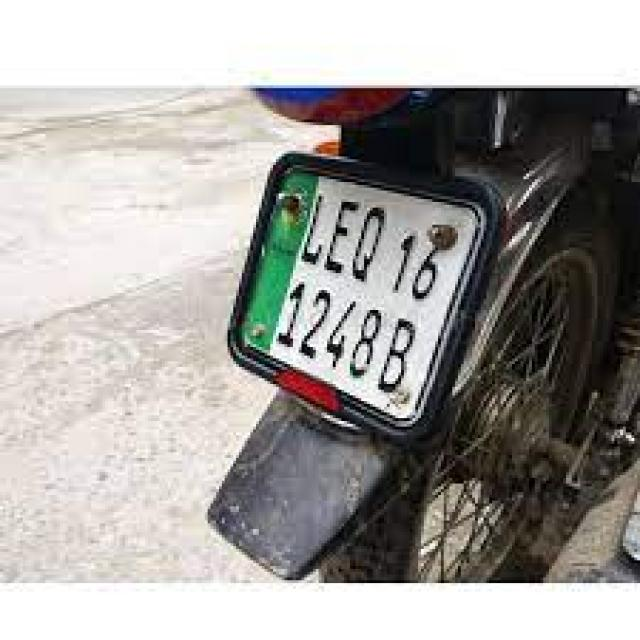license_plate: (225, 145, 498, 441)
